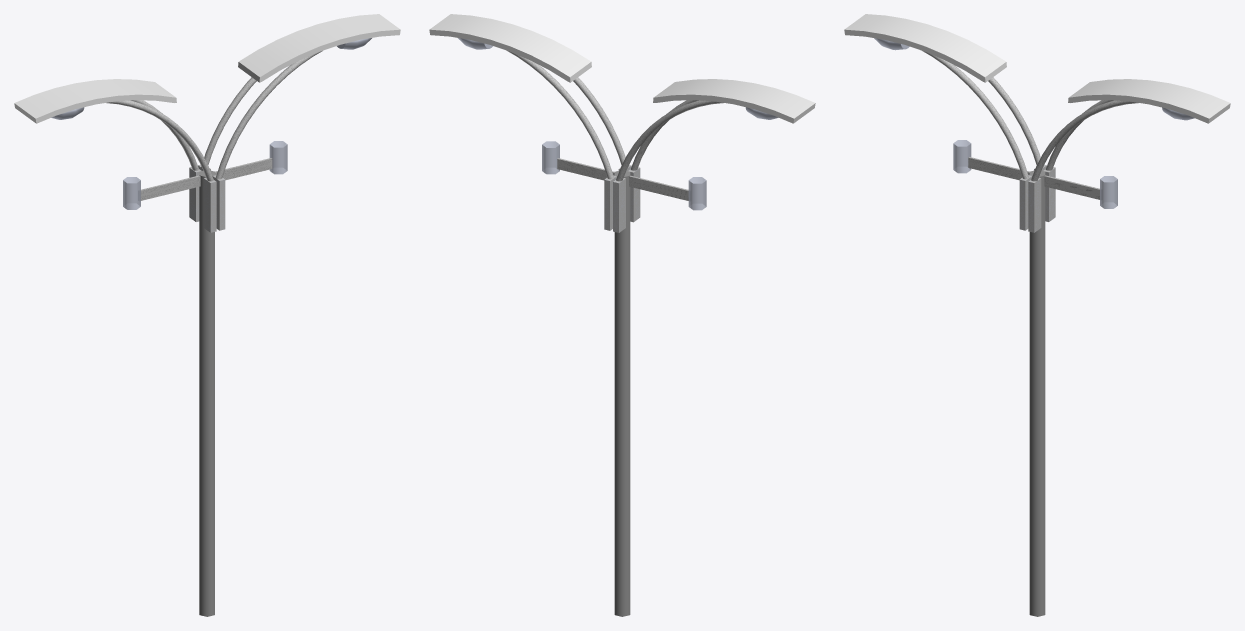
The picture shows the model from 3 angles, left to right: view 1: azimuth 30°, elevation 25°; view 2: azimuth 150°, elevation 25°; view 3: azimuth 330°, elevation 25°; orthographic projection.
Parts seen in each view (by area): view 1: CANTOP_Lamp_A06_1 (×2), CANTOP_Lamp_A06_7, CANTOP_Lamp_A06_3 (×3), CANTOP_Lamp_A06_6, CANTOP_Lamp_A06_2 (×2), CANTOP_Lamp_A06_5 (×2); view 2: CANTOP_Lamp_A06_1 (×2), CANTOP_Lamp_A06_7, CANTOP_Lamp_A06_3 (×3), CANTOP_Lamp_A06_6, CANTOP_Lamp_A06_5 (×2), CANTOP_Lamp_A06_2; view 3: CANTOP_Lamp_A06_1 (×2), CANTOP_Lamp_A06_7, CANTOP_Lamp_A06_3 (×3), CANTOP_Lamp_A06_6, CANTOP_Lamp_A06_2 (×2), CANTOP_Lamp_A06_5 (×2).
Part boxes in pixels (x1,y1,x2,y2): CANTOP_Lamp_A06_1 (×2): [14, 14, 400, 123]; CANTOP_Lamp_A06_7: [199, 170, 214, 616]; CANTOP_Lamp_A06_3 (×3): [106, 51, 322, 181]; CANTOP_Lamp_A06_6: [139, 158, 272, 200]; CANTOP_Lamp_A06_2 (×2): [203, 175, 225, 232]; CANTOP_Lamp_A06_5 (×2): [123, 141, 287, 209]; CANTOP_Lamp_A06_1 (×2): [429, 14, 815, 123]; CANTOP_Lamp_A06_7: [614, 170, 630, 616]; CANTOP_Lamp_A06_3 (×3): [506, 50, 723, 181]; CANTOP_Lamp_A06_6: [557, 158, 688, 200]; CANTOP_Lamp_A06_5 (×2): [542, 141, 706, 210]; CANTOP_Lamp_A06_2: [613, 178, 625, 232]; CANTOP_Lamp_A06_1 (×2): [844, 14, 1230, 123]; CANTOP_Lamp_A06_7: [1029, 170, 1045, 616]; CANTOP_Lamp_A06_3 (×3): [922, 51, 1138, 181]; CANTOP_Lamp_A06_6: [968, 157, 1099, 199]; CANTOP_Lamp_A06_2 (×2): [1019, 175, 1041, 232]; CANTOP_Lamp_A06_5 (×2): [953, 140, 1117, 208].
Size of the model in its own units: 147 by 15.09 by 213.
